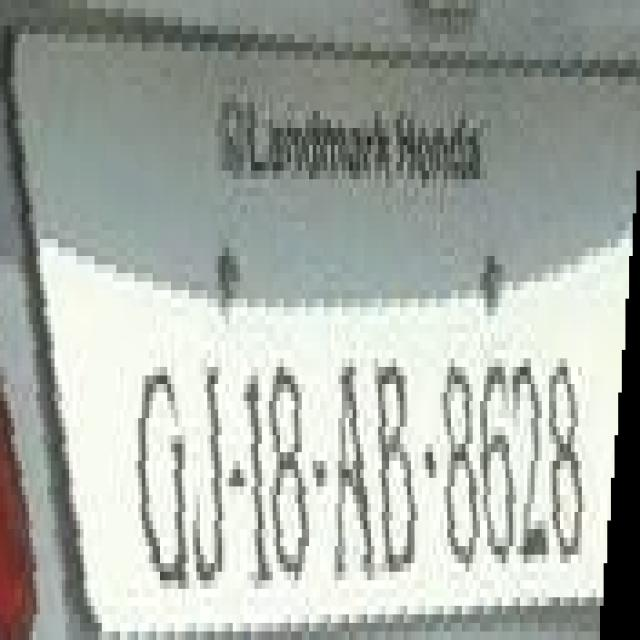license_plate: (22, 282, 640, 632)
